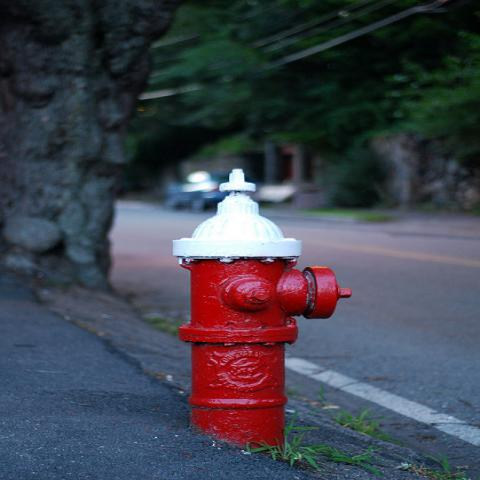car: (166, 170, 232, 216), (246, 183, 296, 204)
